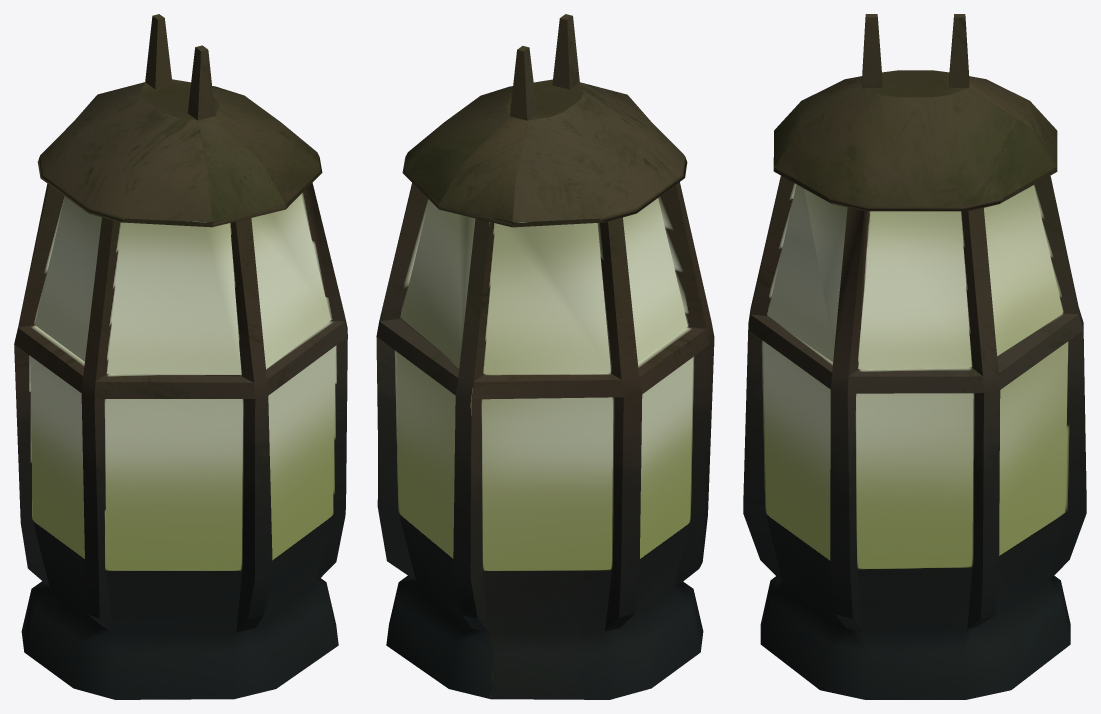
File: container.fbx
The picture shows the model from 3 angles, left to right: view 1: azimuth 30°, elevation 25°; view 2: azimuth 150°, elevation 25°; view 3: azimuth 270°, elevation 25°; orthographic projection. The views are drawn at different scales.
Parts seen in each view (by area): view 1: container; view 2: container; view 3: container.
Part boxes in pixels (box(x1,y1,x2,y2)): container: box(14, 14, 347, 699); container: box(376, 14, 714, 699); container: box(743, 14, 1086, 699).
Bounding box in the file's own units: 0.8194 × 1.78 × 0.8973.
1 material, 1 textured.
